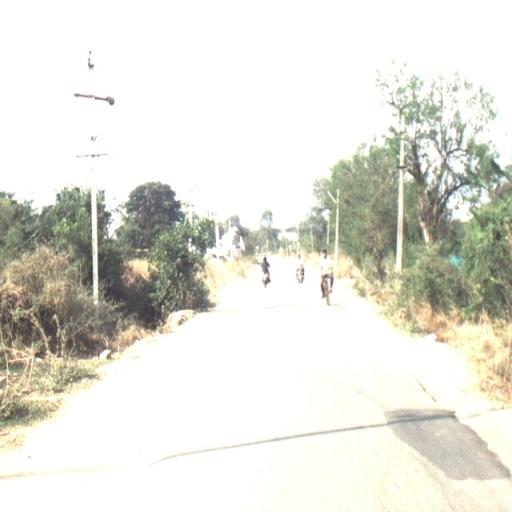street_light_0: (326, 188, 342, 211)
